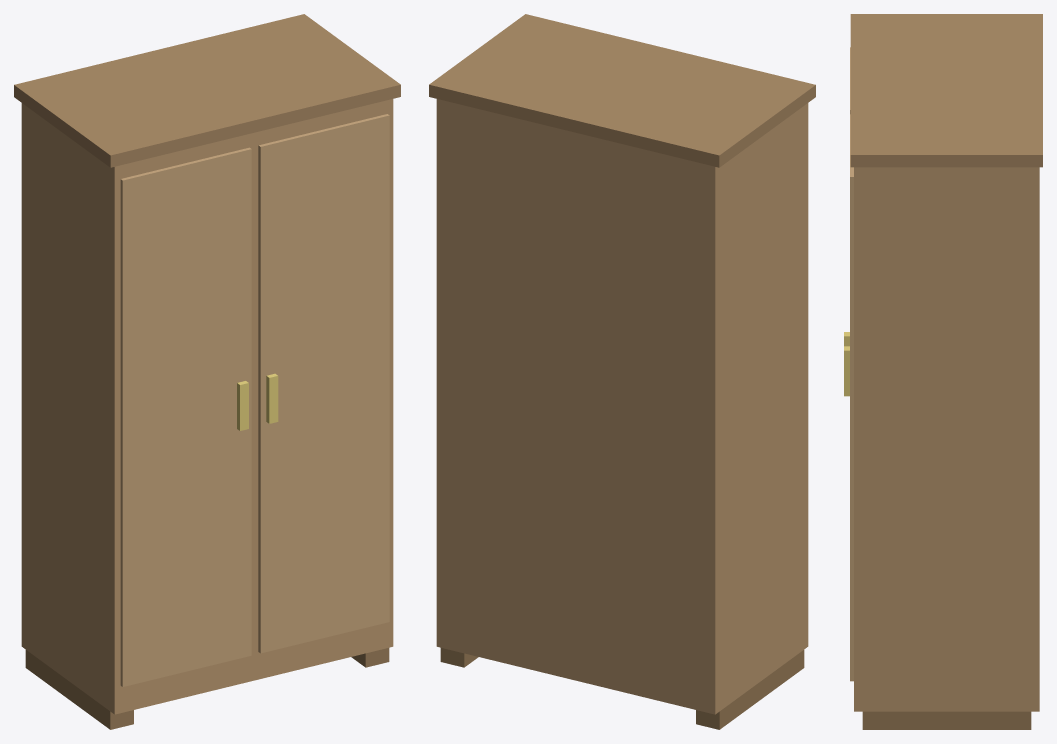
The model's file is wooden-wardrobe.glb.
3 views of the same model, side by side, from view 1: azimuth 30°, elevation 25°; view 2: azimuth 150°, elevation 25°; view 3: azimuth 270°, elevation 25° (orthographic).
Visible parts, largest first — view 1: wooden-wardrobe_Cube, wooden-wardrobe_Cube.005, wooden-wardrobe_Cube.004, wooden-wardrobe_Cube.003, wooden-wardrobe_Cube.001, wooden-wardrobe_Cube.007; view 2: wooden-wardrobe_Cube, wooden-wardrobe_Cube.003, wooden-wardrobe_Cube.001; view 3: wooden-wardrobe_Cube, wooden-wardrobe_Cube.003, wooden-wardrobe_Cube.002, wooden-wardrobe_Cube.005.
Boxes of the visible parts, x1=… form: wooden-wardrobe_Cube: x1=21, y1=99, x2=393, y2=714; wooden-wardrobe_Cube.005: x1=258, y1=114, x2=389, y2=653; wooden-wardrobe_Cube.004: x1=120, y1=147, x2=251, y2=686; wooden-wardrobe_Cube.003: x1=14, y1=14, x2=400, y2=167; wooden-wardrobe_Cube.001: x1=25, y1=650, x2=133, y2=729; wooden-wardrobe_Cube.007: x1=266, y1=373, x2=278, y2=423; wooden-wardrobe_Cube: x1=436, y1=99, x2=808, y2=714; wooden-wardrobe_Cube.003: x1=429, y1=14, x2=815, y2=167; wooden-wardrobe_Cube.001: x1=696, y1=650, x2=804, y2=729; wooden-wardrobe_Cube: x1=854, y1=167, x2=1039, y2=711; wooden-wardrobe_Cube.003: x1=850, y1=14, x2=1042, y2=167; wooden-wardrobe_Cube.002: x1=862, y1=711, x2=1031, y2=729; wooden-wardrobe_Cube.005: x1=850, y1=114, x2=853, y2=681.
Bounding box in the file's own units: 0.99 × 1.89 × 0.59.
